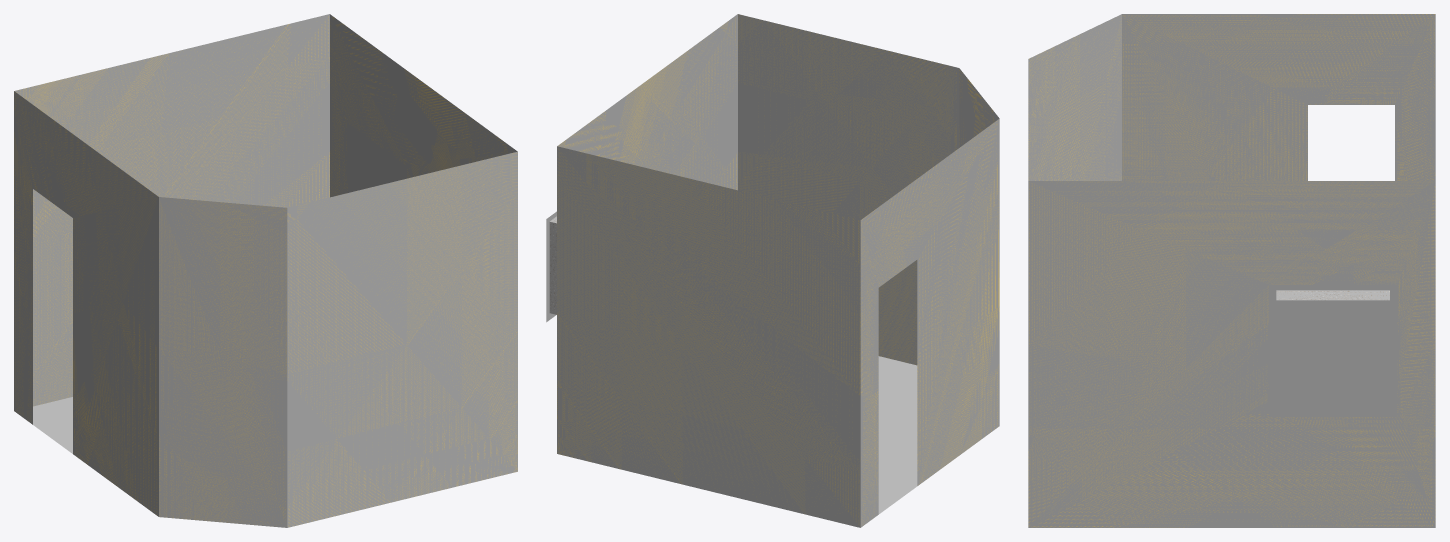
File: DES009.obj
The picture shows the model from 3 angles, left to right: view 1: azimuth 30°, elevation 25°; view 2: azimuth 150°, elevation 25°; view 3: azimuth 270°, elevation 25°; orthographic projection. The views are drawn at different scales.
Visible parts, largest first — view 1: Mesh5 DES009 Model, Mesh1 Group1 DES009 Model; view 2: Mesh5 DES009 Model, Mesh1 Group1 DES009 Model; view 3: Mesh5 DES009 Model, Mesh1 Group1 DES009 Model.
Boxes of the visible parts, x1,y1,x2,y2 form: Mesh5 DES009 Model: (14,14,517,527); Mesh1 Group1 DES009 Model: (347,123,406,192); Mesh5 DES009 Model: (557,14,999,527); Mesh1 Group1 DES009 Model: (546,211,556,322); Mesh5 DES009 Model: (1028,14,1435,527); Mesh1 Group1 DES009 Model: (1268,285,1397,416).
Bounding box in the file's own units: 3.38 × 3 × 3.2.
